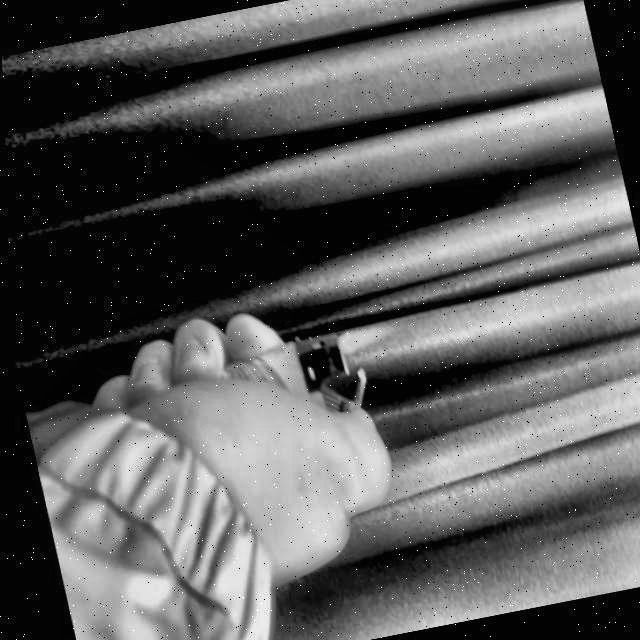Fire: (336, 320, 397, 355)
